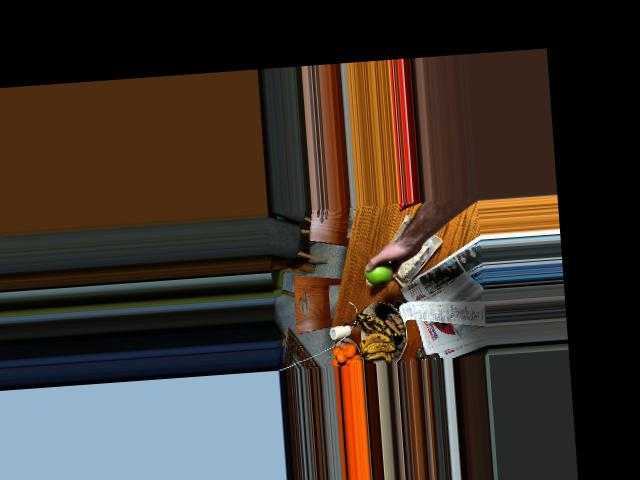apple: (362, 256, 398, 287)
